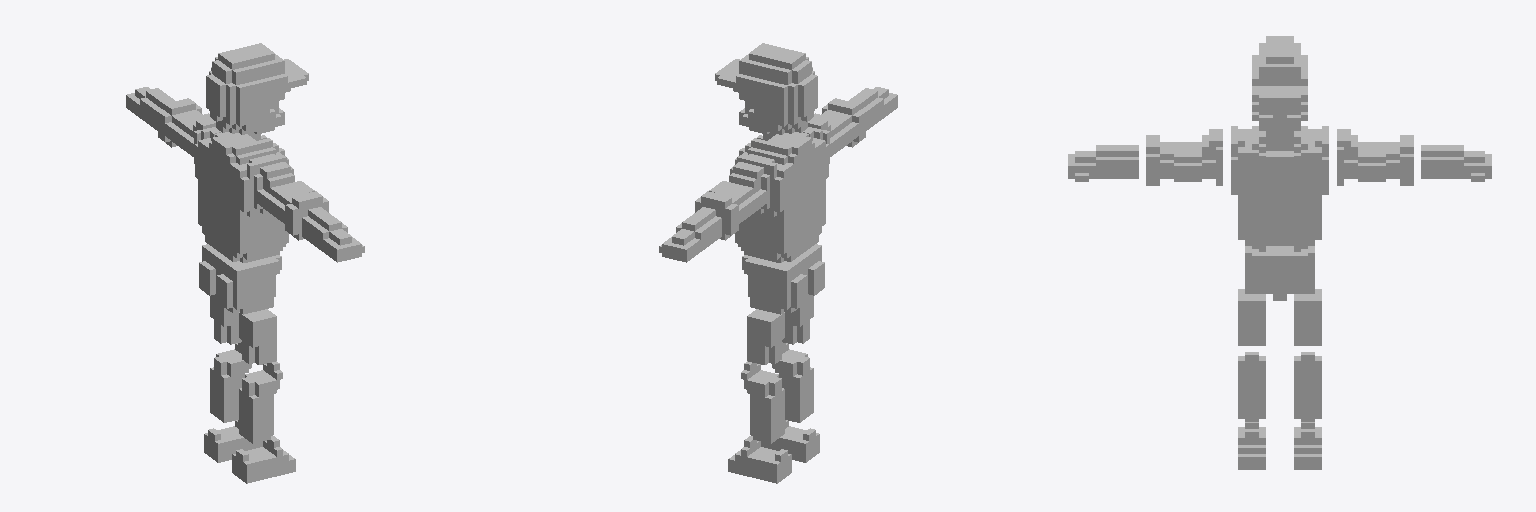
Rendered from Johnny Shotgun.obj.
3 views of the same model, side by side, from view 1: azimuth 30°, elevation 25°; view 2: azimuth 150°, elevation 25°; view 3: azimuth 270°, elevation 25° (orthographic).
Parts seen in each view (by area): view 1: object 1; view 2: object 1; view 3: object 1.
Part boxes in pixels (bbox=[...]): object 1: bbox=[126, 43, 364, 483]; object 1: bbox=[659, 43, 897, 483]; object 1: bbox=[1068, 36, 1491, 469].
Bounding box in the file's own units: 1.4 × 6.4 × 6.